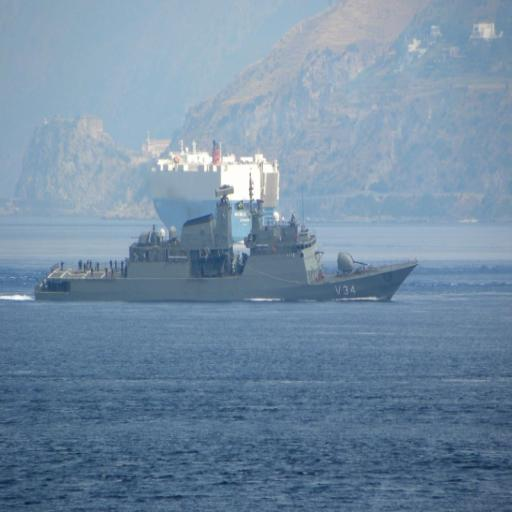Fragata: (31, 179, 428, 309)
